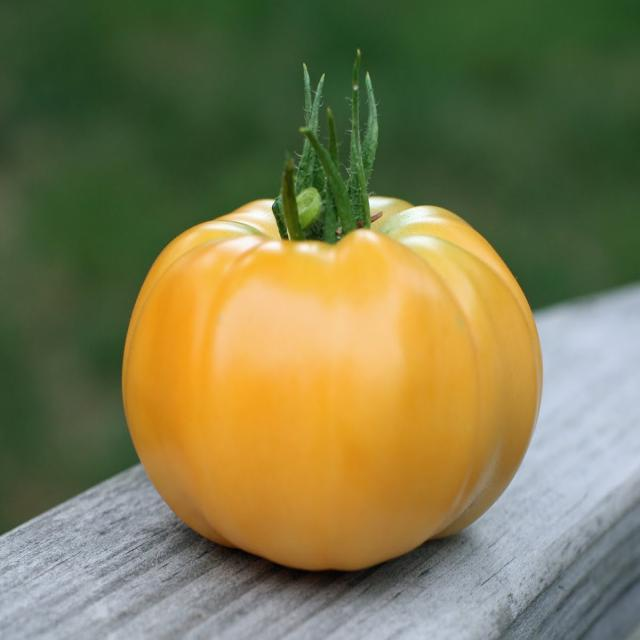tomato: (113, 190, 546, 560)
